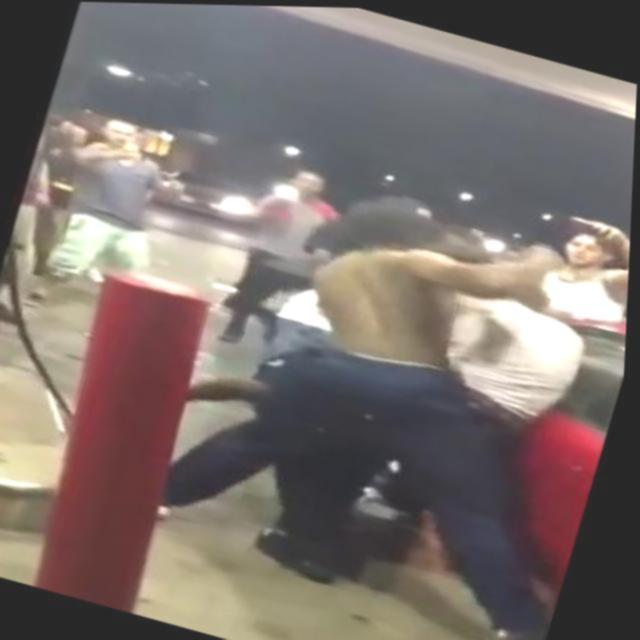fight: (141, 175, 634, 640)
